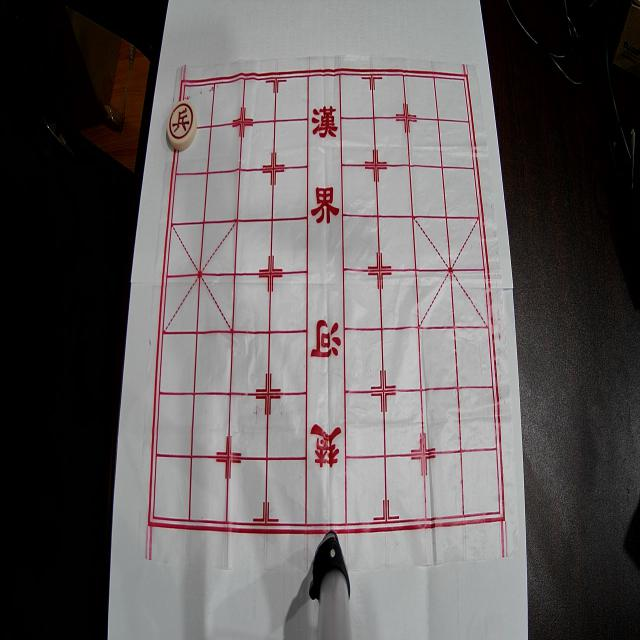red-soldier: (167, 100, 197, 150)
